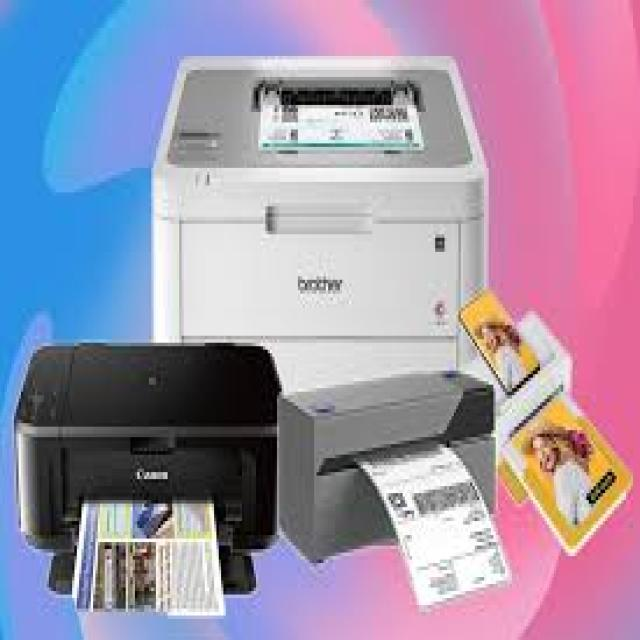printer: (145, 24, 503, 374), (18, 325, 286, 616), (272, 359, 512, 610), (452, 308, 632, 566)
